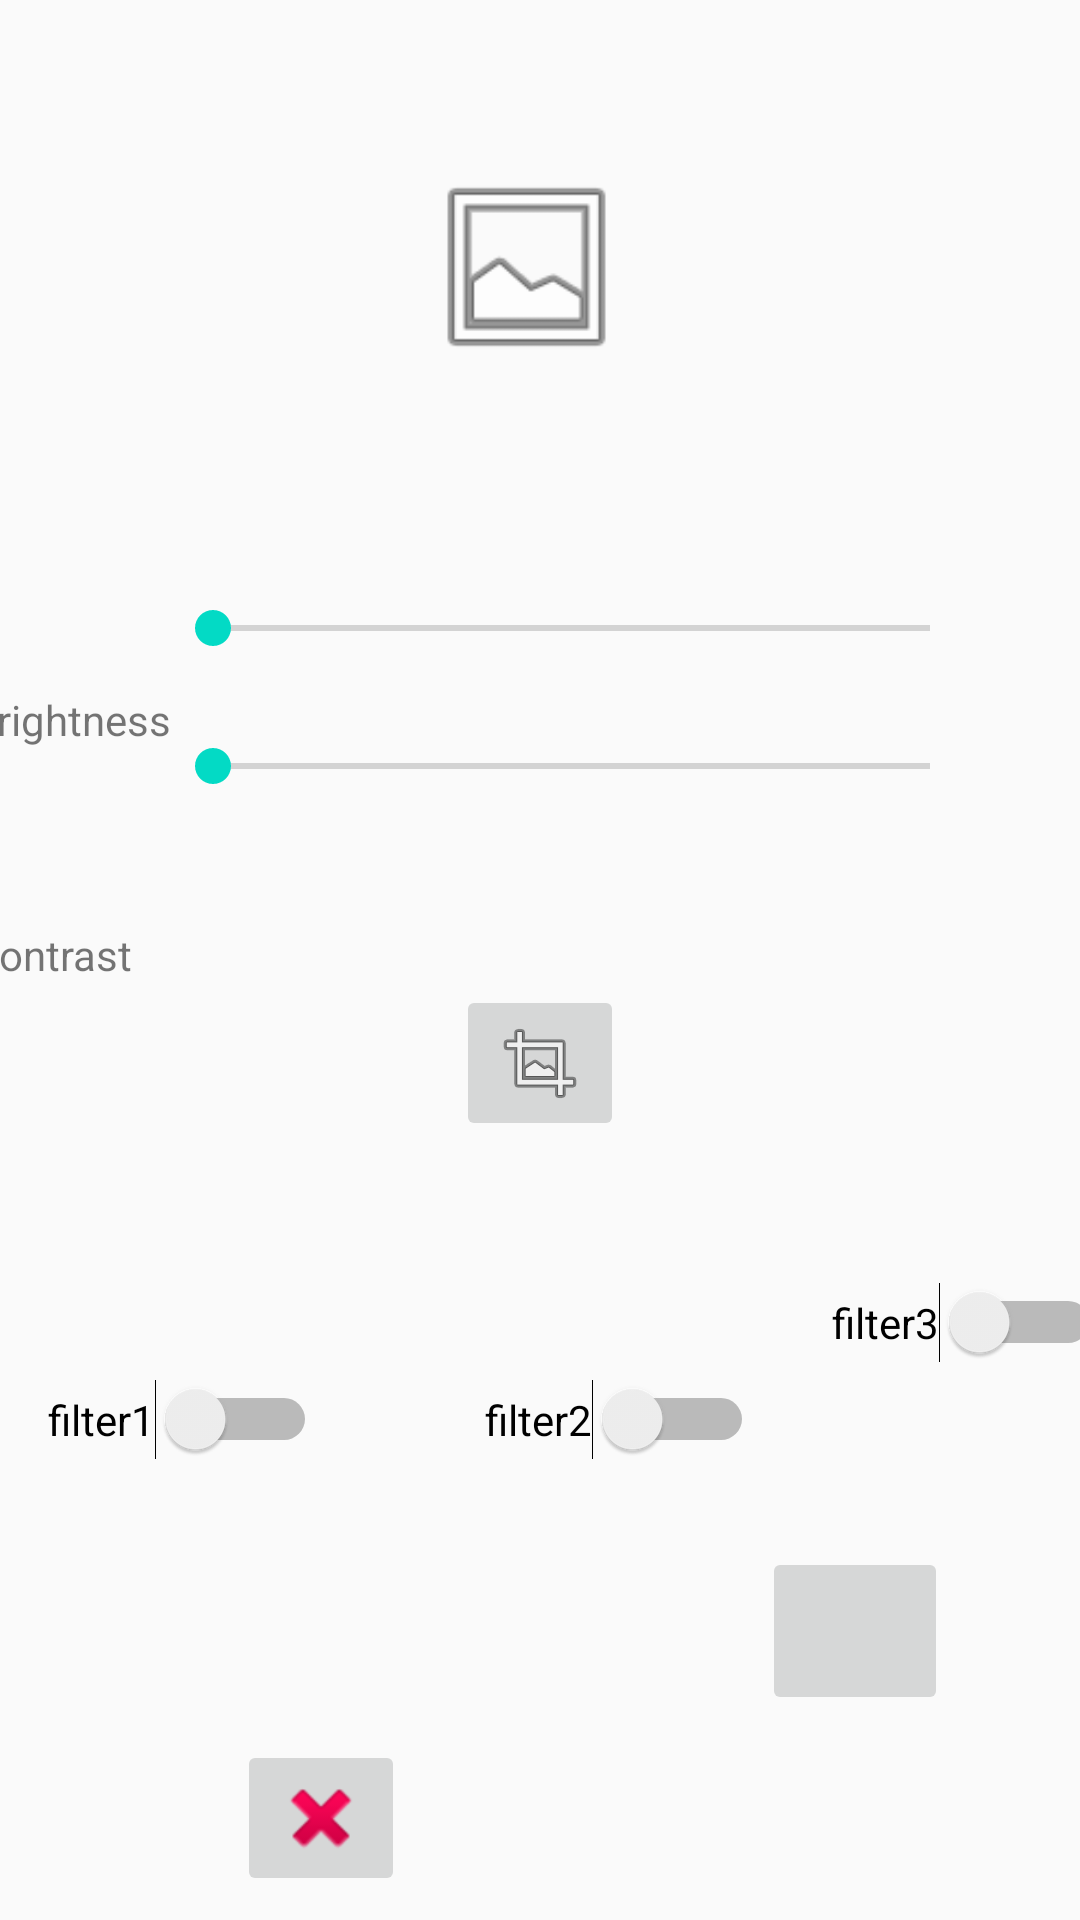

Point at icon controls on the screen. Image size 1080x1920, points as [x,y].
crop: [540,1063]
delete: [321,1818]
gallery: [526,267]
